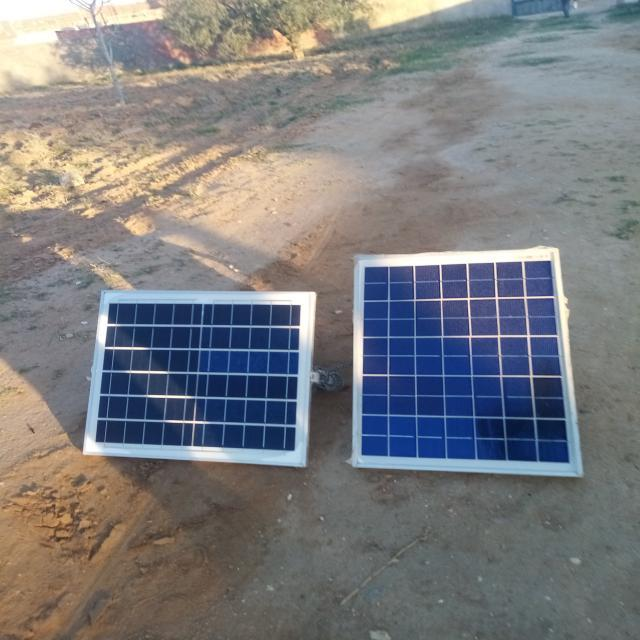no faulty: (347, 254, 581, 475), (86, 292, 314, 465)
